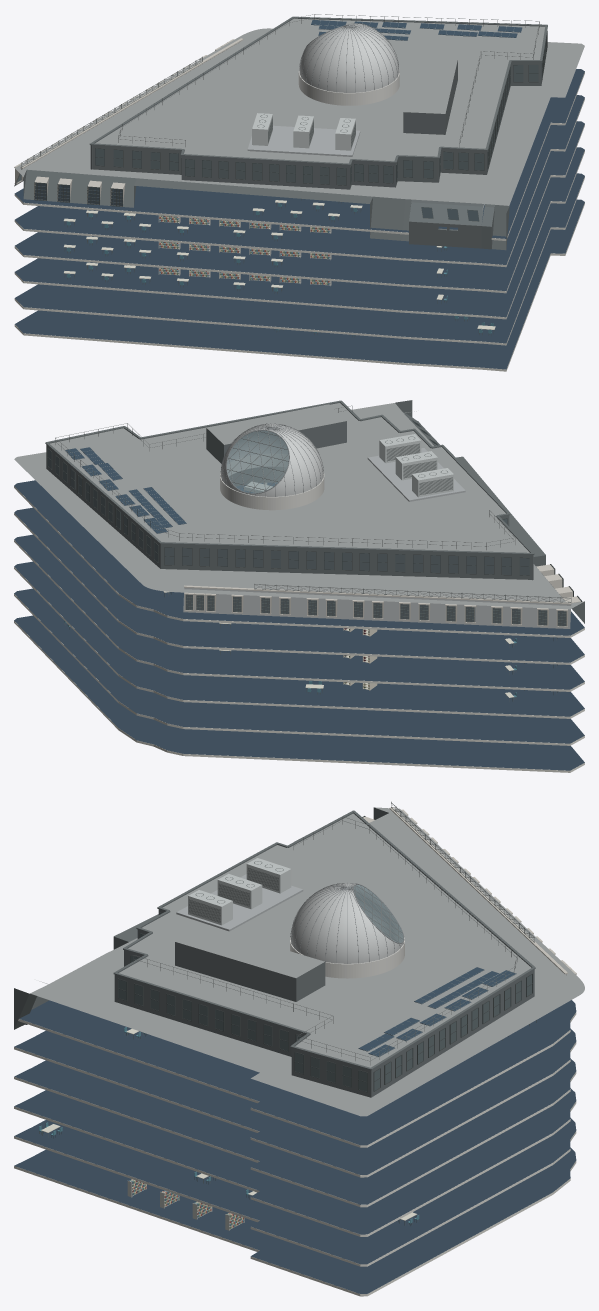
Rendered from lrb-interior-6c4f72181041.glb.
3 renders of one model, top to bottom at view 1: azimuth 30°, elevation 25°; view 2: azimuth 150°, elevation 25°; view 3: azimuth 270°, elevation 25°, orthographic. The views are drawn at different scales.
Parts seen in each view (by area): view 1: LRB.001; view 2: LRB.001; view 3: LRB.001.
Part boxes in pixels (bbox=[...]): LRB.001: bbox=[14, 14, 584, 371]; LRB.001: bbox=[14, 400, 584, 772]; LRB.001: bbox=[14, 801, 584, 1296].
Bounding box in the file's own units: 89.08 × 36.89 × 69.59.
